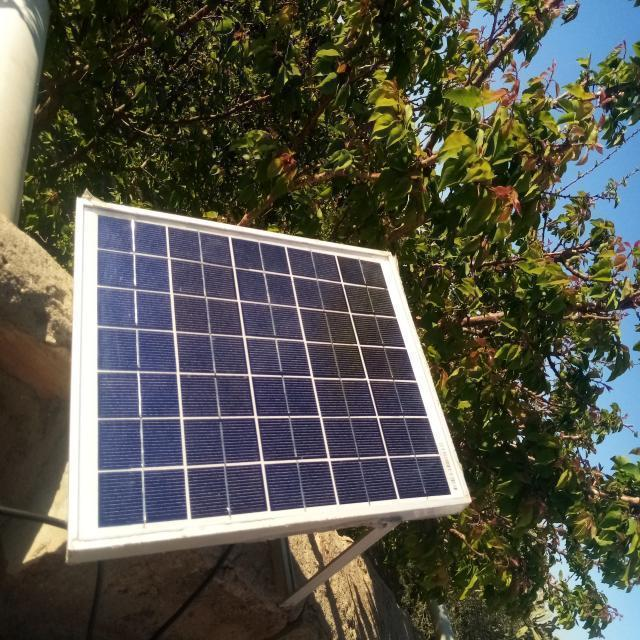Normal Solar Panel: (72, 200, 471, 547)
